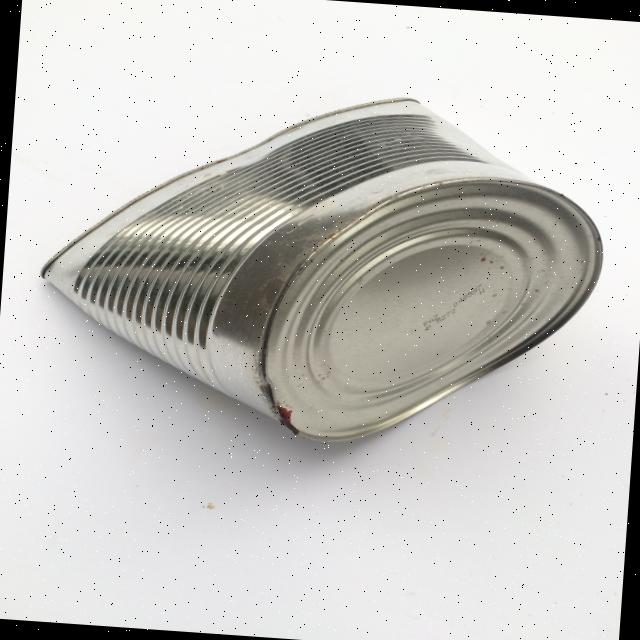metal: (29, 72, 614, 460)
